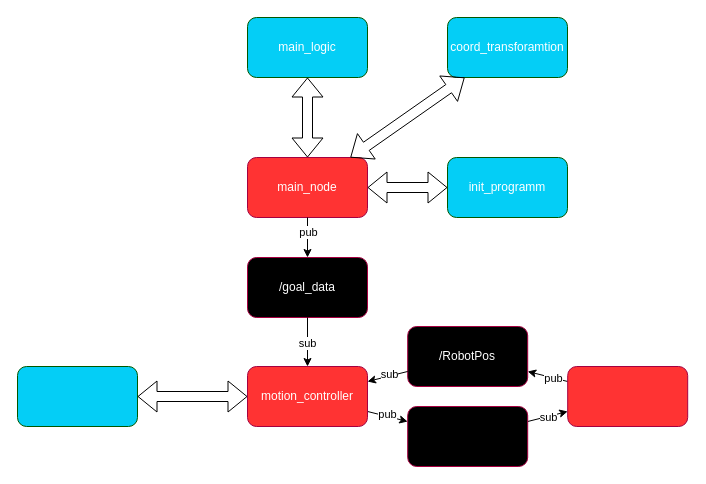
Some shapes in this 706 by 484 pixel diagram are drawn without their labels. Each missing label, with the centre of its shape:
"/RobotCmd" goes at (467,436).
"/SerialMapping" goes at (627,396).
"move_logic" goes at (77,396).
